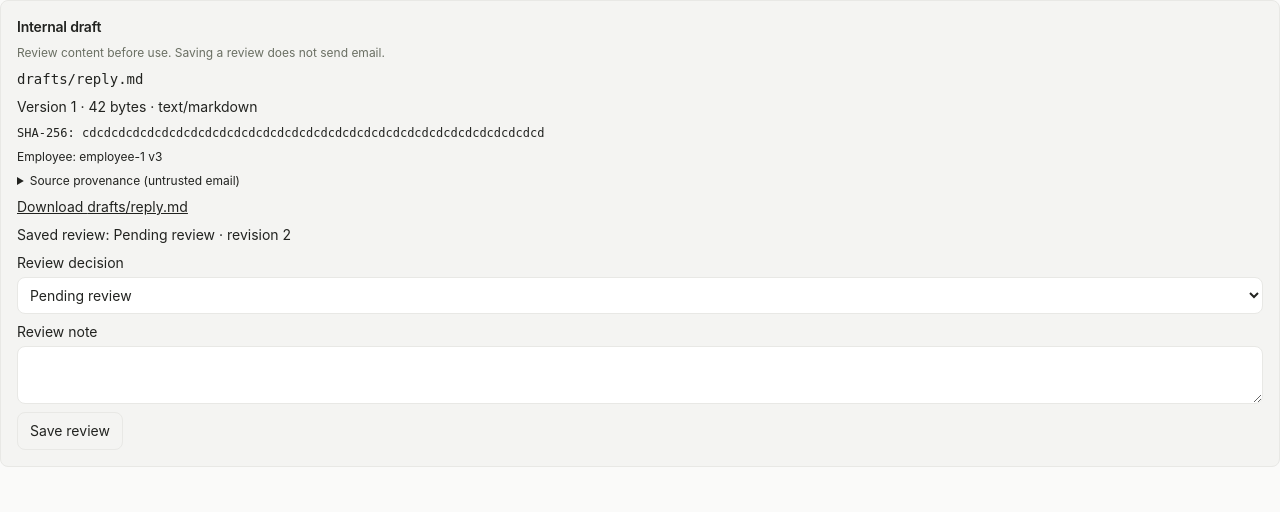
Test case: retained internal draft review › preserves stale-tab input on CAS conflict and requires another human save
Expected: the text "Saved review: Pending review · revision 2" is shown, left=17, top=226, right=291, bottom=243
Select "Approve" in the dropdown labelled "Review decision" at (640, 296), box left=17, top=277, right=1263, bottom=314
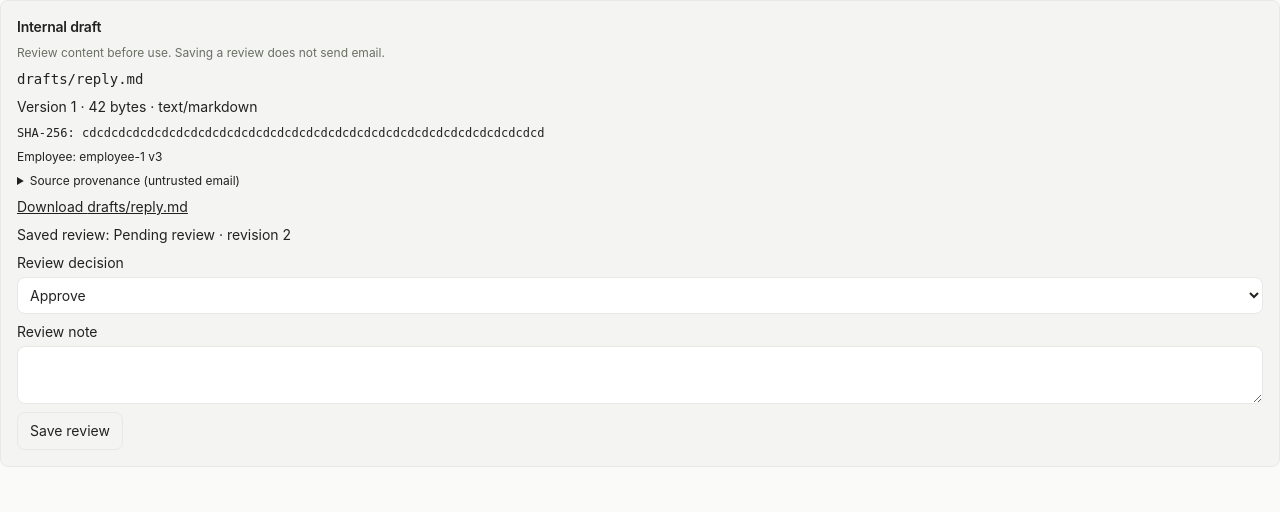
Type "My review" into the text box labelled "Review note" at (640, 375), box left=17, top=346, right=1263, bottom=404
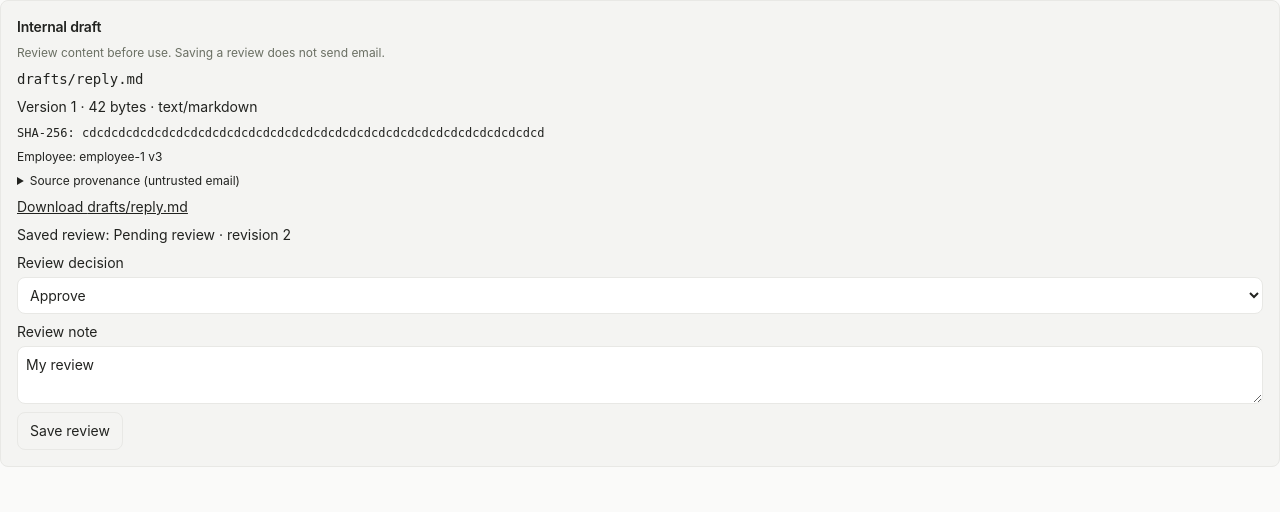
Click the button "Save review" at (70, 431), box left=17, top=412, right=123, bottom=450
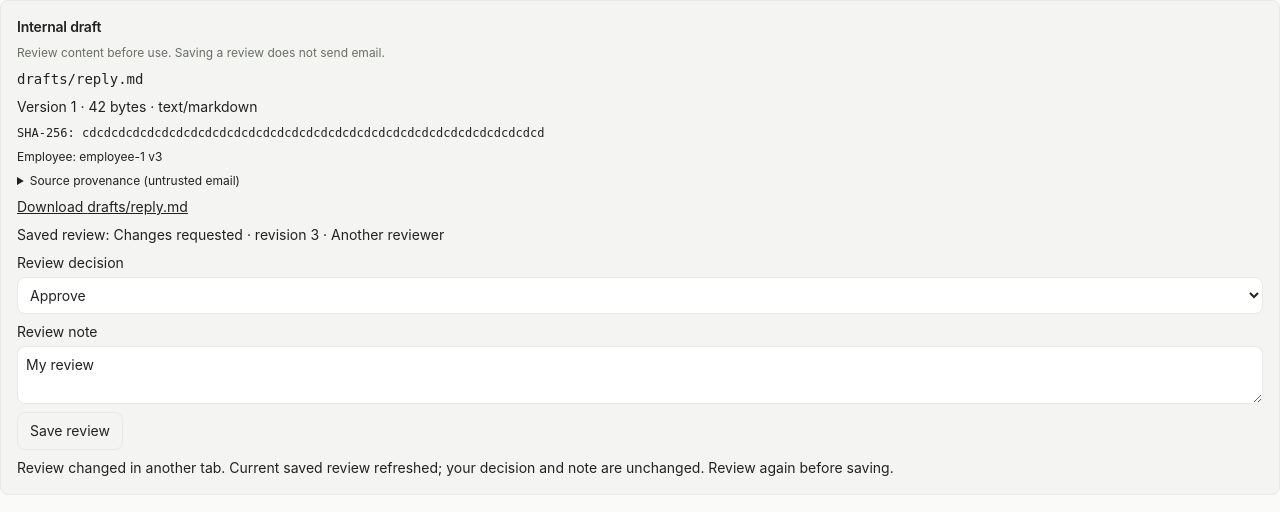
Expected: the text "Review changed in another tab" is shown, left=17, top=459, right=894, bottom=476
Expected: the text "Saved review: Changes requested · revision 3 · Another reviewer" is shown, left=17, top=226, right=444, bottom=243
Click the button "Save review" at (70, 431), box left=17, top=412, right=123, bottom=450
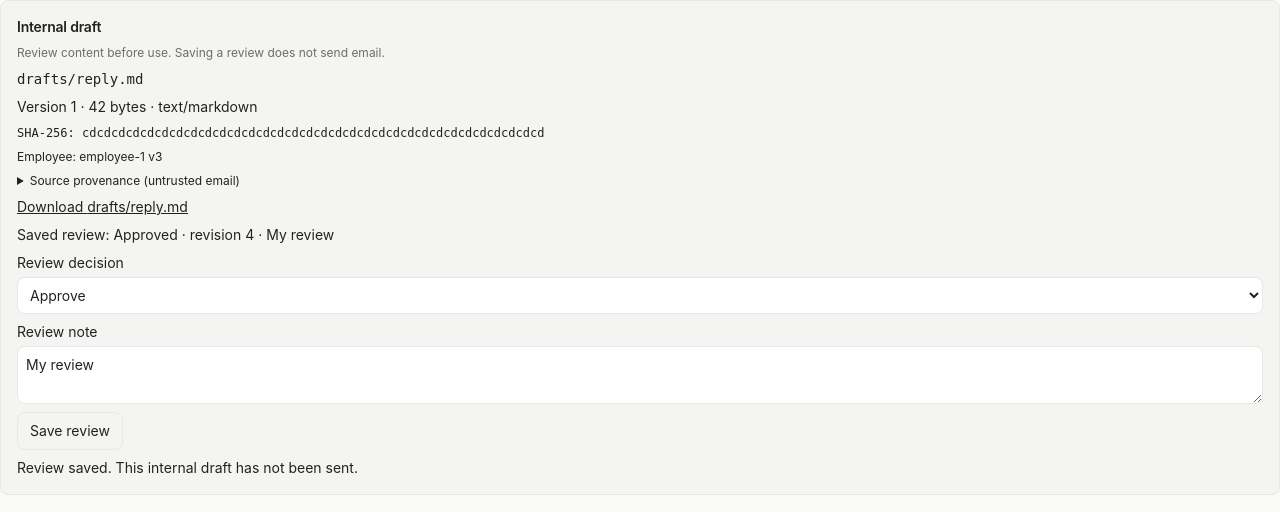
Expected: the text "Review saved. This internal draft has not been sent." is shown, left=17, top=459, right=358, bottom=476
